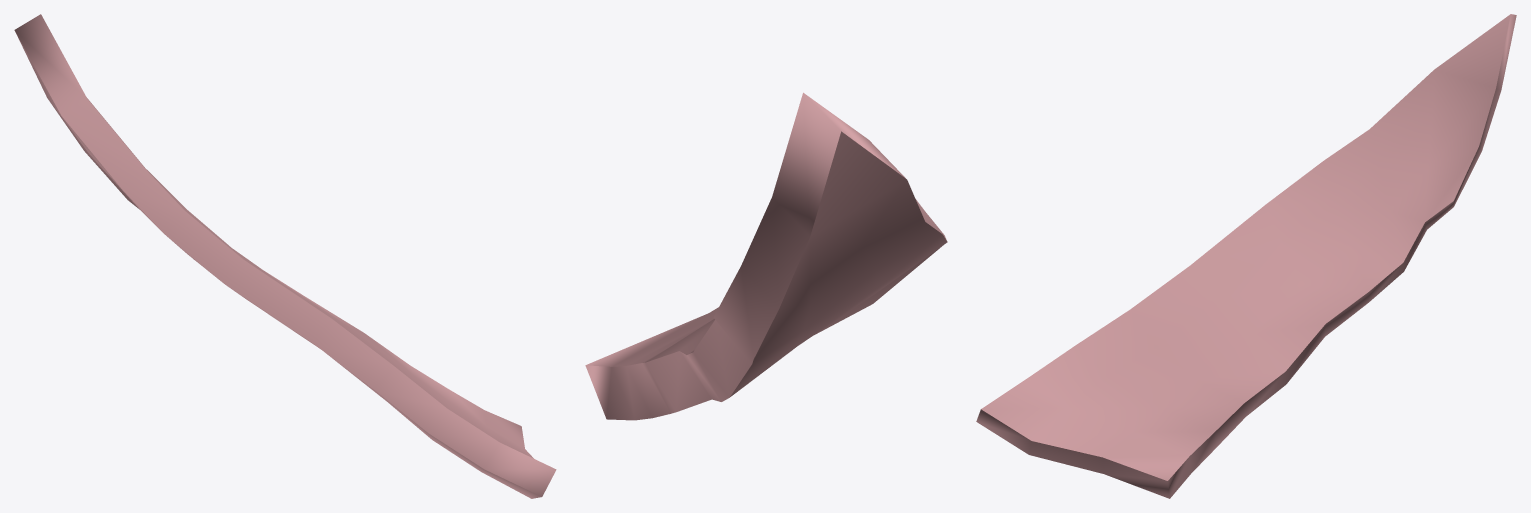
The picture shows the model from 3 angles, left to right: view 1: azimuth 30°, elevation 25°; view 2: azimuth 150°, elevation 25°; view 3: azimuth 270°, elevation 25°; orthographic projection. The views are drawn at different scales.
Visible parts, largest first — view 1: ZA_f85606407aa3aba0; view 2: ZA_f85606407aa3aba0; view 3: ZA_f85606407aa3aba0.
Boxes of the visible parts, x1=… form: ZA_f85606407aa3aba0: x1=14, y1=14, x2=556, y2=498; ZA_f85606407aa3aba0: x1=585, y1=92, x2=947, y2=420; ZA_f85606407aa3aba0: x1=976, y1=14, x2=1516, y2=498.
Bounding box in the file's own units: 0.0358 × 0.04 × 0.0554.
